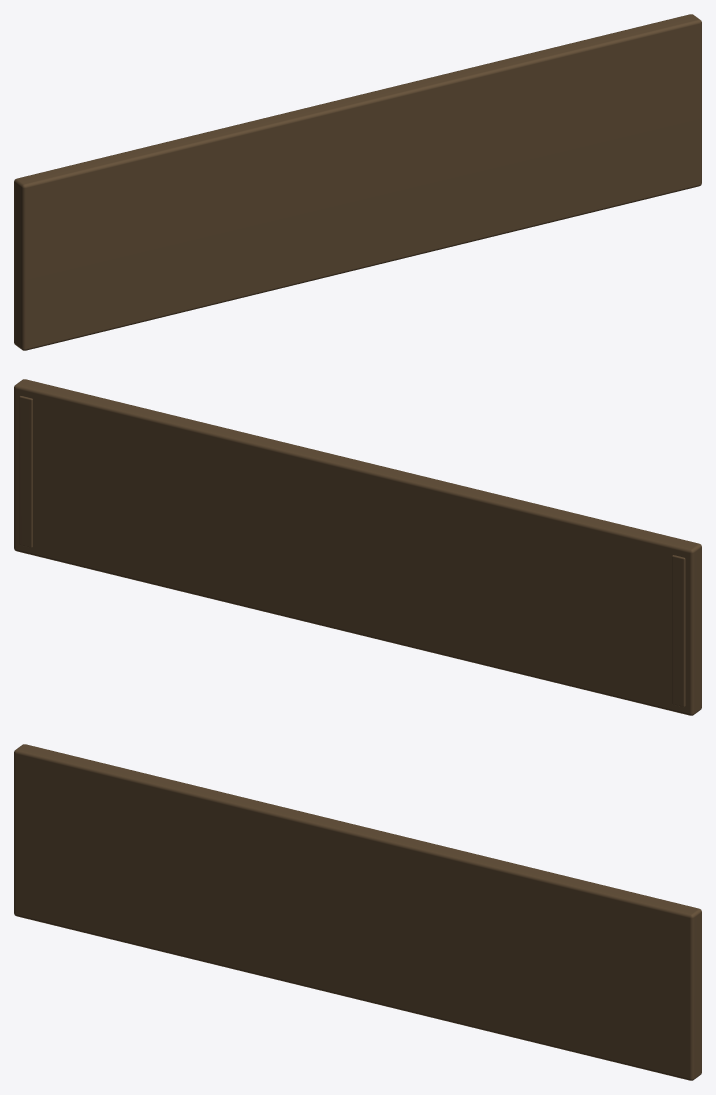
File: timber-plaque-lod0.fbx
3 views of the same model, one above another, from view 1: azimuth 30°, elevation 25°; view 2: azimuth 150°, elevation 25°; view 3: azimuth 330°, elevation 25° (orthographic).
Visible parts, largest first — view 1: Eased altar count plaque body; view 2: Eased altar count plaque body, Count plaque decorative edge shoulder.001, Count plaque decorative edge shoulder; view 3: Eased altar count plaque body.
Boxes of the visible parts, bbox=[...] form: Eased altar count plaque body: bbox=[14, 14, 701, 350]; Eased altar count plaque body: bbox=[14, 379, 701, 715]; Count plaque decorative edge shoulder.001: bbox=[672, 555, 685, 706]; Count plaque decorative edge shoulder: bbox=[19, 396, 32, 547]; Eased altar count plaque body: bbox=[14, 744, 701, 1080].
Bounding box in the file's own units: 94 × 22 × 2.75.
